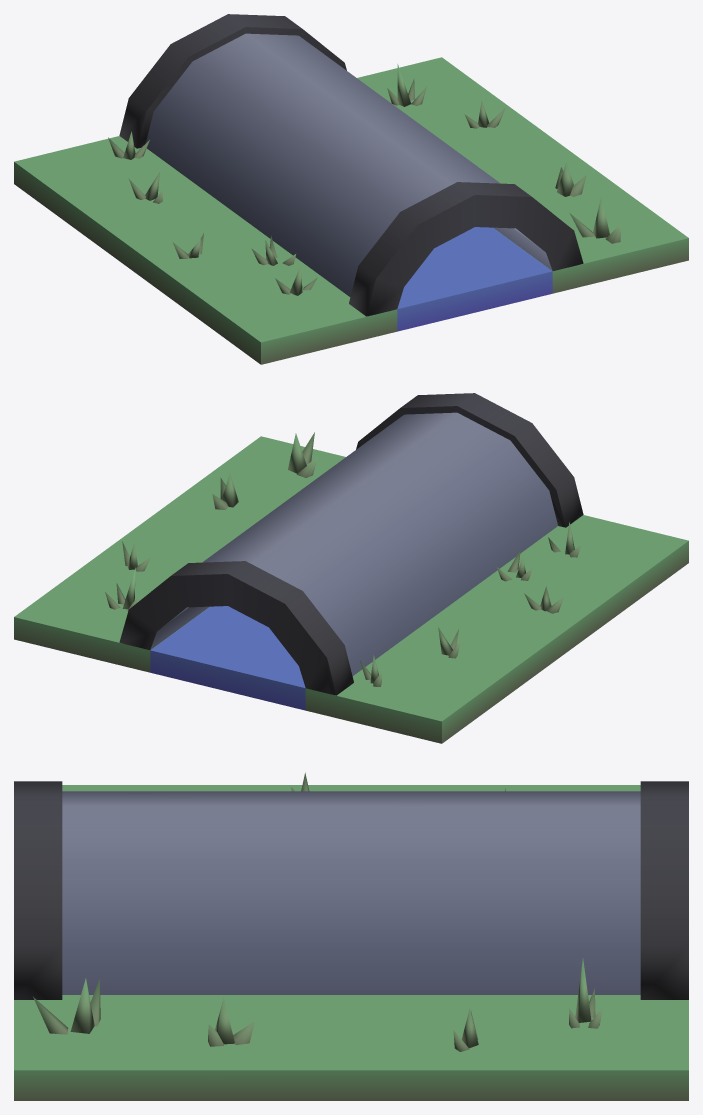
File: aqueduct.glb
3 views of the same model, one above another, from view 1: azimuth 30°, elevation 25°; view 2: azimuth 150°, elevation 25°; view 3: azimuth 270°, elevation 25° (orthographic). The views are drawn at different scales.
Parts seen in each view (by area): view 1: aqueduct; view 2: aqueduct; view 3: aqueduct.
Part boxes in pixels (x1,y1,x2,y2): aqueduct: (14,14,688,364); aqueduct: (14,393,688,743); aqueduct: (14,772,688,1100).
Size of the model in its own units: 1 by 0.2629 by 1.
1 material, 1 textured.
